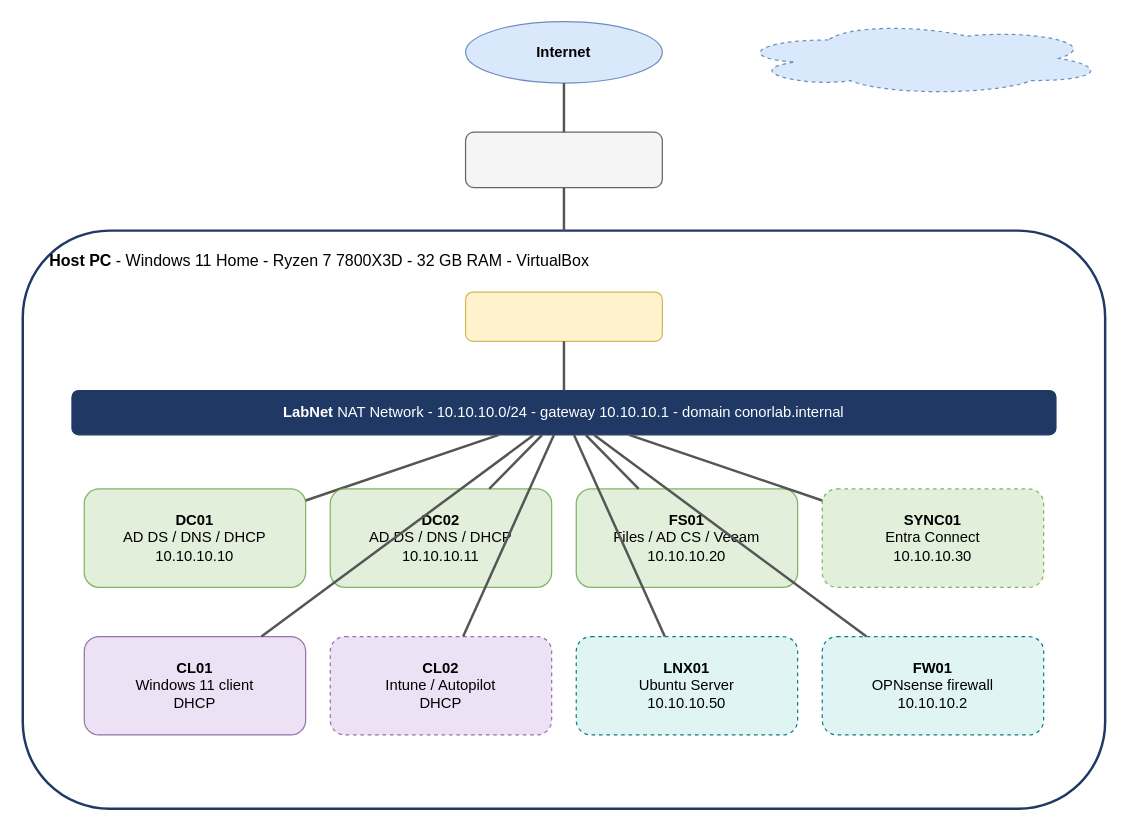
This 1127x831 diagram has some shape labels left out. Here are the shapes that lost their labels. From the top down, the centre of each, then its label:
At point 920,57: "Microsoft cloud M365 / Entra ID / Intune / Defender / Sentinel".
At point 563,159: "Home router".
At point 563,316: "VirtualBox NAT".
